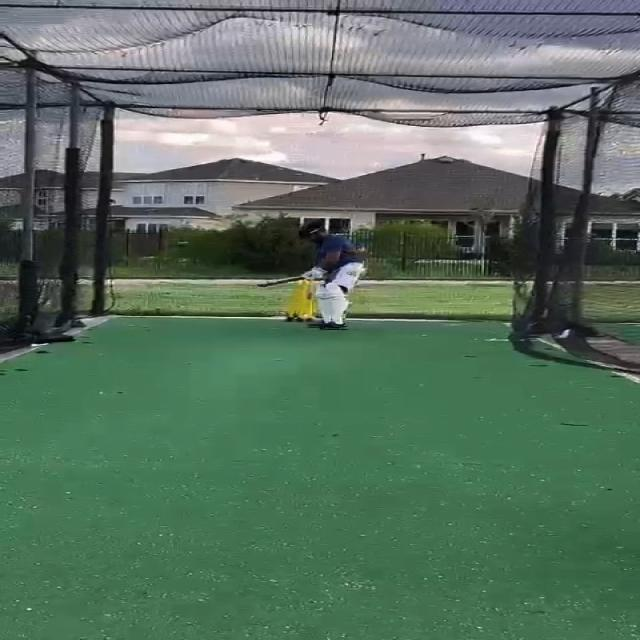batsman: (254, 224, 374, 332)
